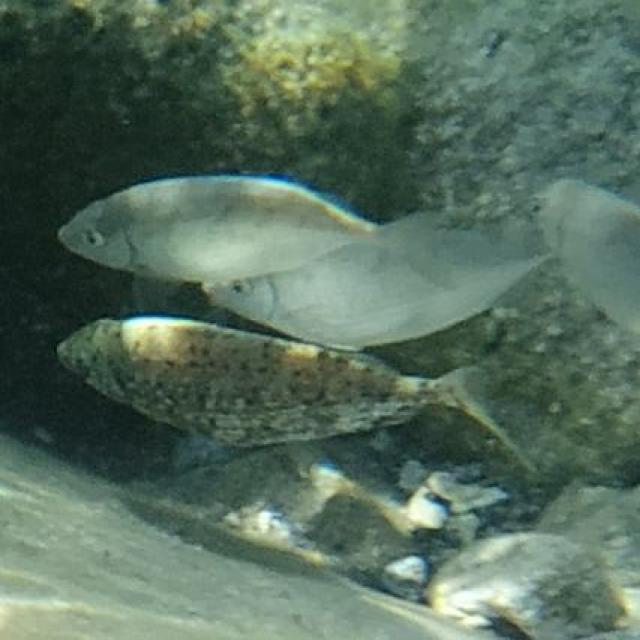Sokar Baligi: (45, 304, 551, 487), (45, 158, 460, 293)
